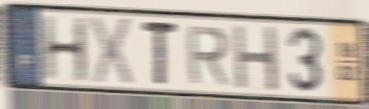3: (286, 26, 324, 96)
H: (231, 22, 281, 93), (41, 15, 90, 85)
R: (184, 24, 232, 87)
T: (140, 19, 180, 88)
X: (89, 14, 135, 89)
